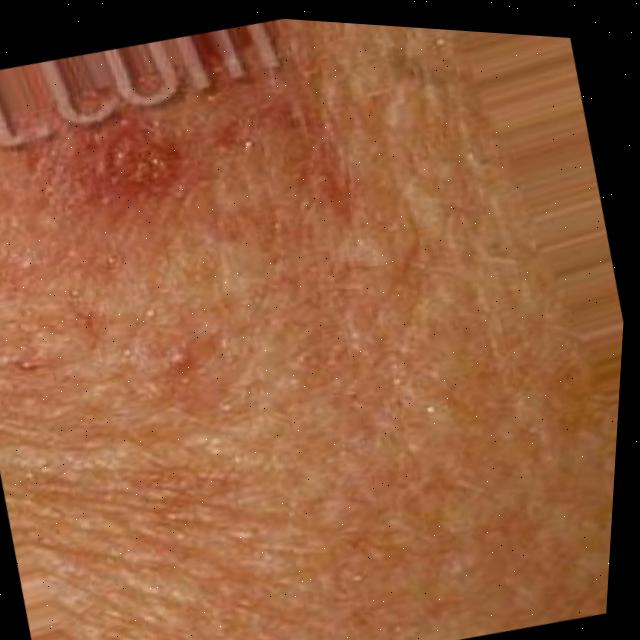Rosacea: (45, 54, 328, 228)
